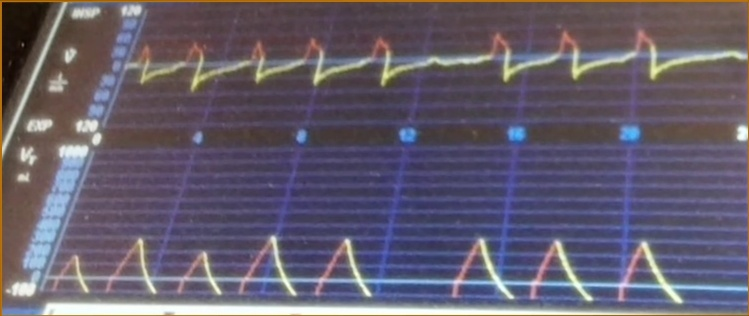Ineffective_effort Flow: (131, 23, 747, 113)
Ineffective_effort Volume: (50, 224, 682, 304)
